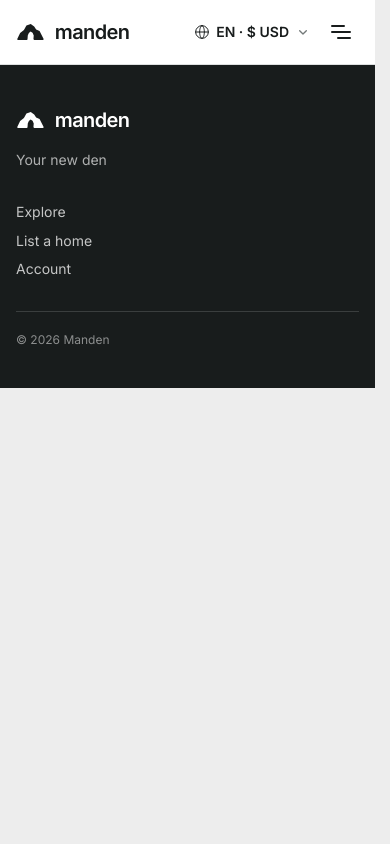
Scenario: localized application shell › routes authenticated navigation to landlord and account areas
The width and height of the screenshot is (390, 844).
Click the button named "Menu": (341,32) [323,14,359,50]
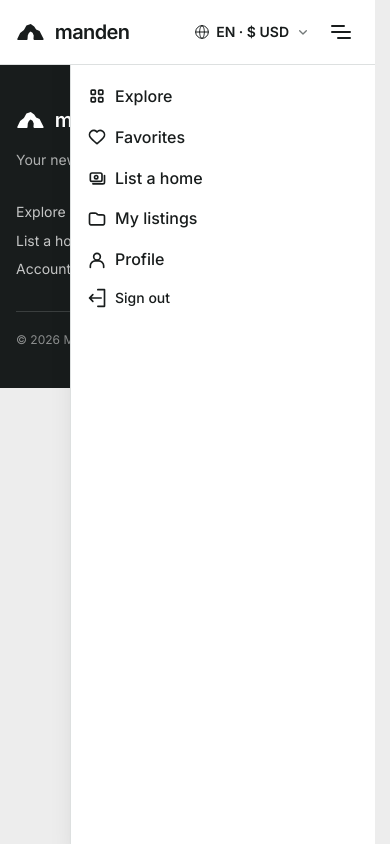
Expected: the button "Sign out" is shown, [87,288,374,308]
